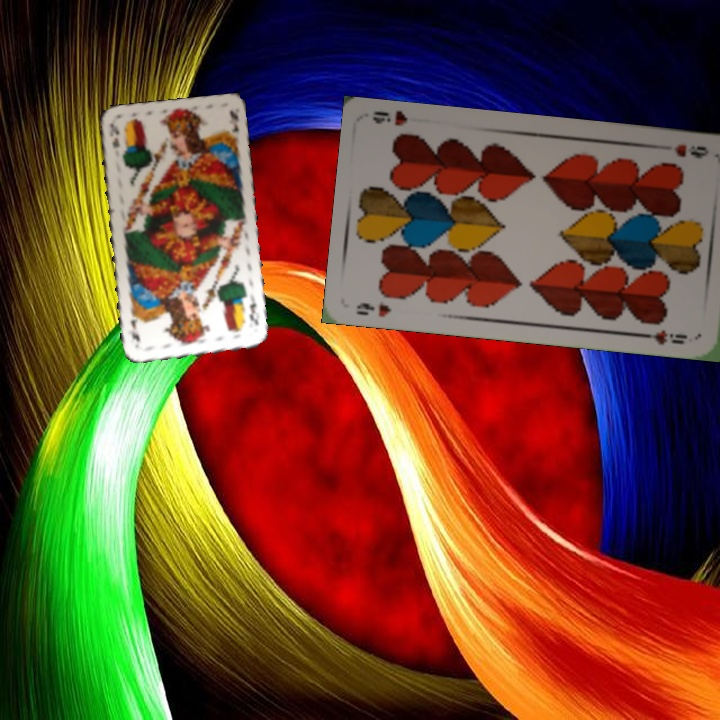EK: (245, 295, 261, 328), (105, 120, 122, 151)
H9: (352, 298, 394, 319), (670, 140, 711, 161)
